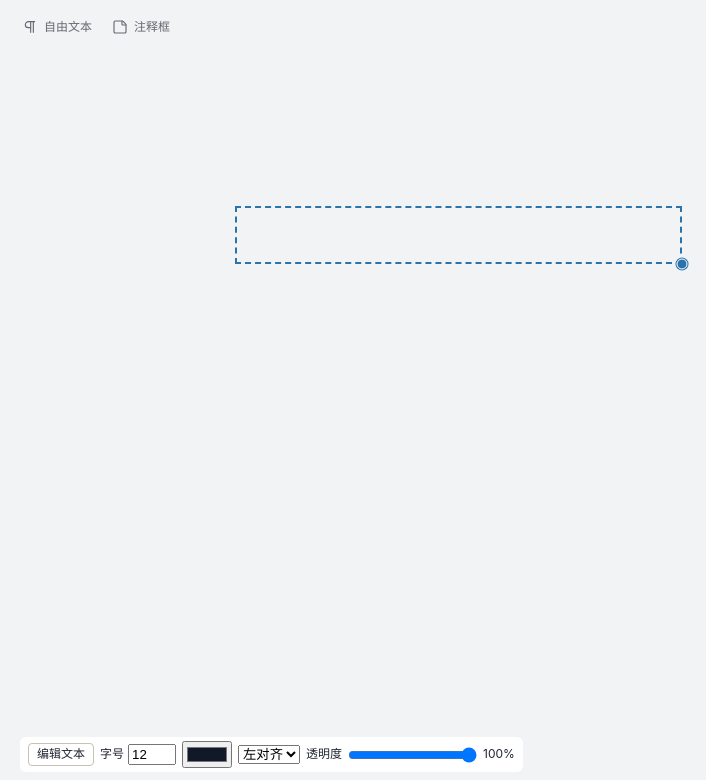
Test case: FreeTextLayer editing › keeps the editor open and shows the error when saving is refused
Click the button "编辑文本": {"x": 61, "y": 754} [28, 743, 94, 766]
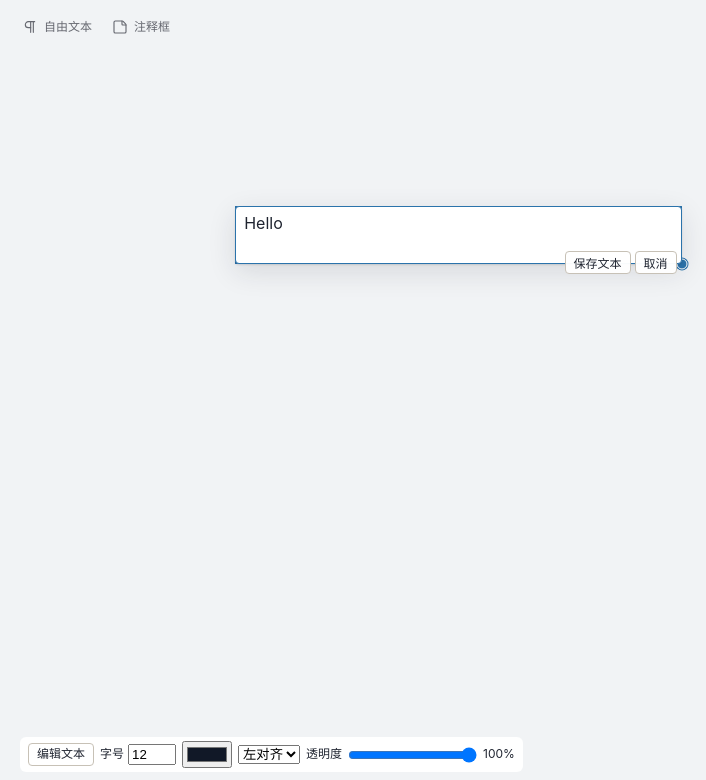
Replace the text in the text box named "自由文本编辑器" with "新文本": {"x": 458, "y": 229} [240, 211, 677, 247]
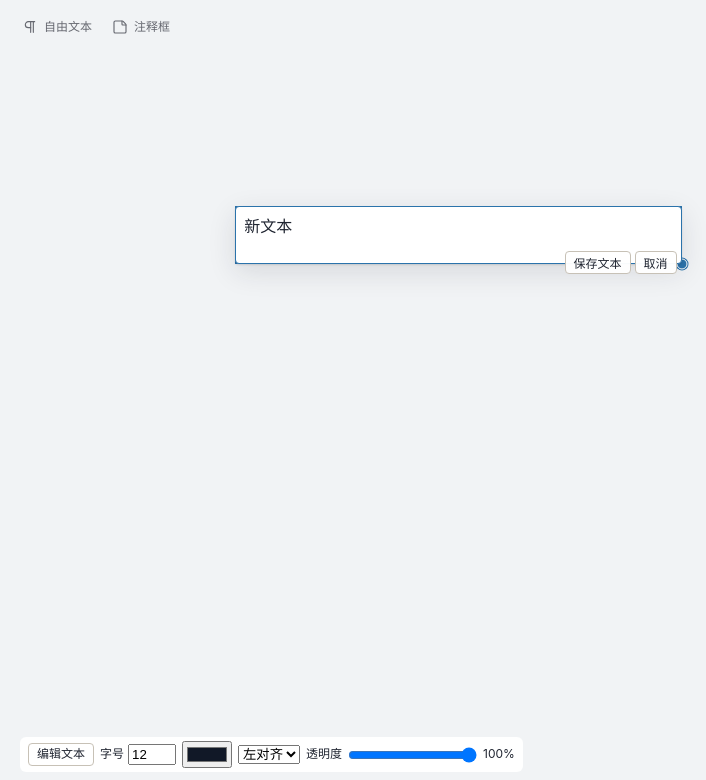
Click the button "保存文本": {"x": 598, "y": 262} [564, 251, 630, 274]
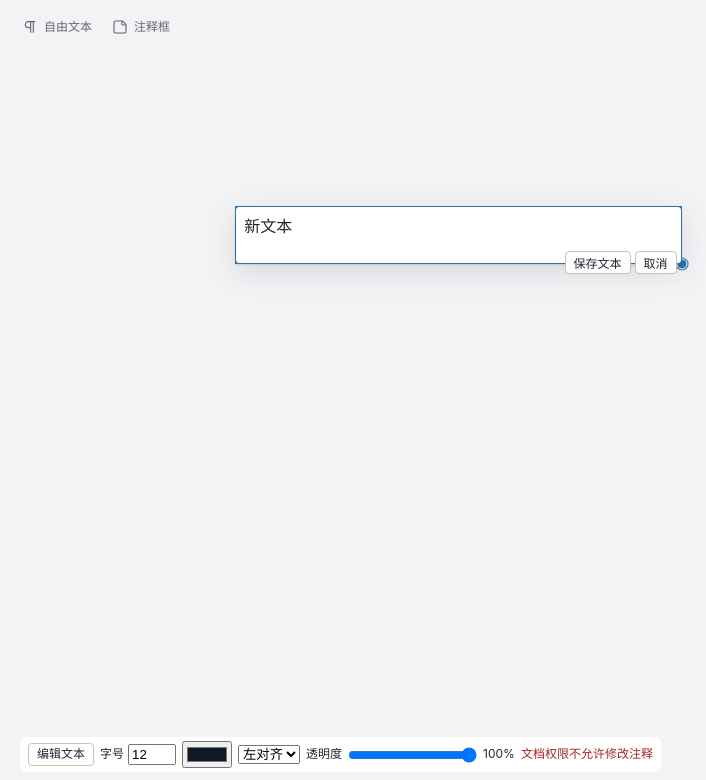
Expected: the message reads "文档权限不允许修改注释", [521, 746, 653, 761]
